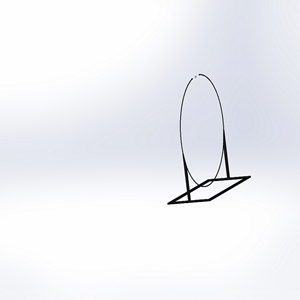circle: (166, 73, 252, 206)
